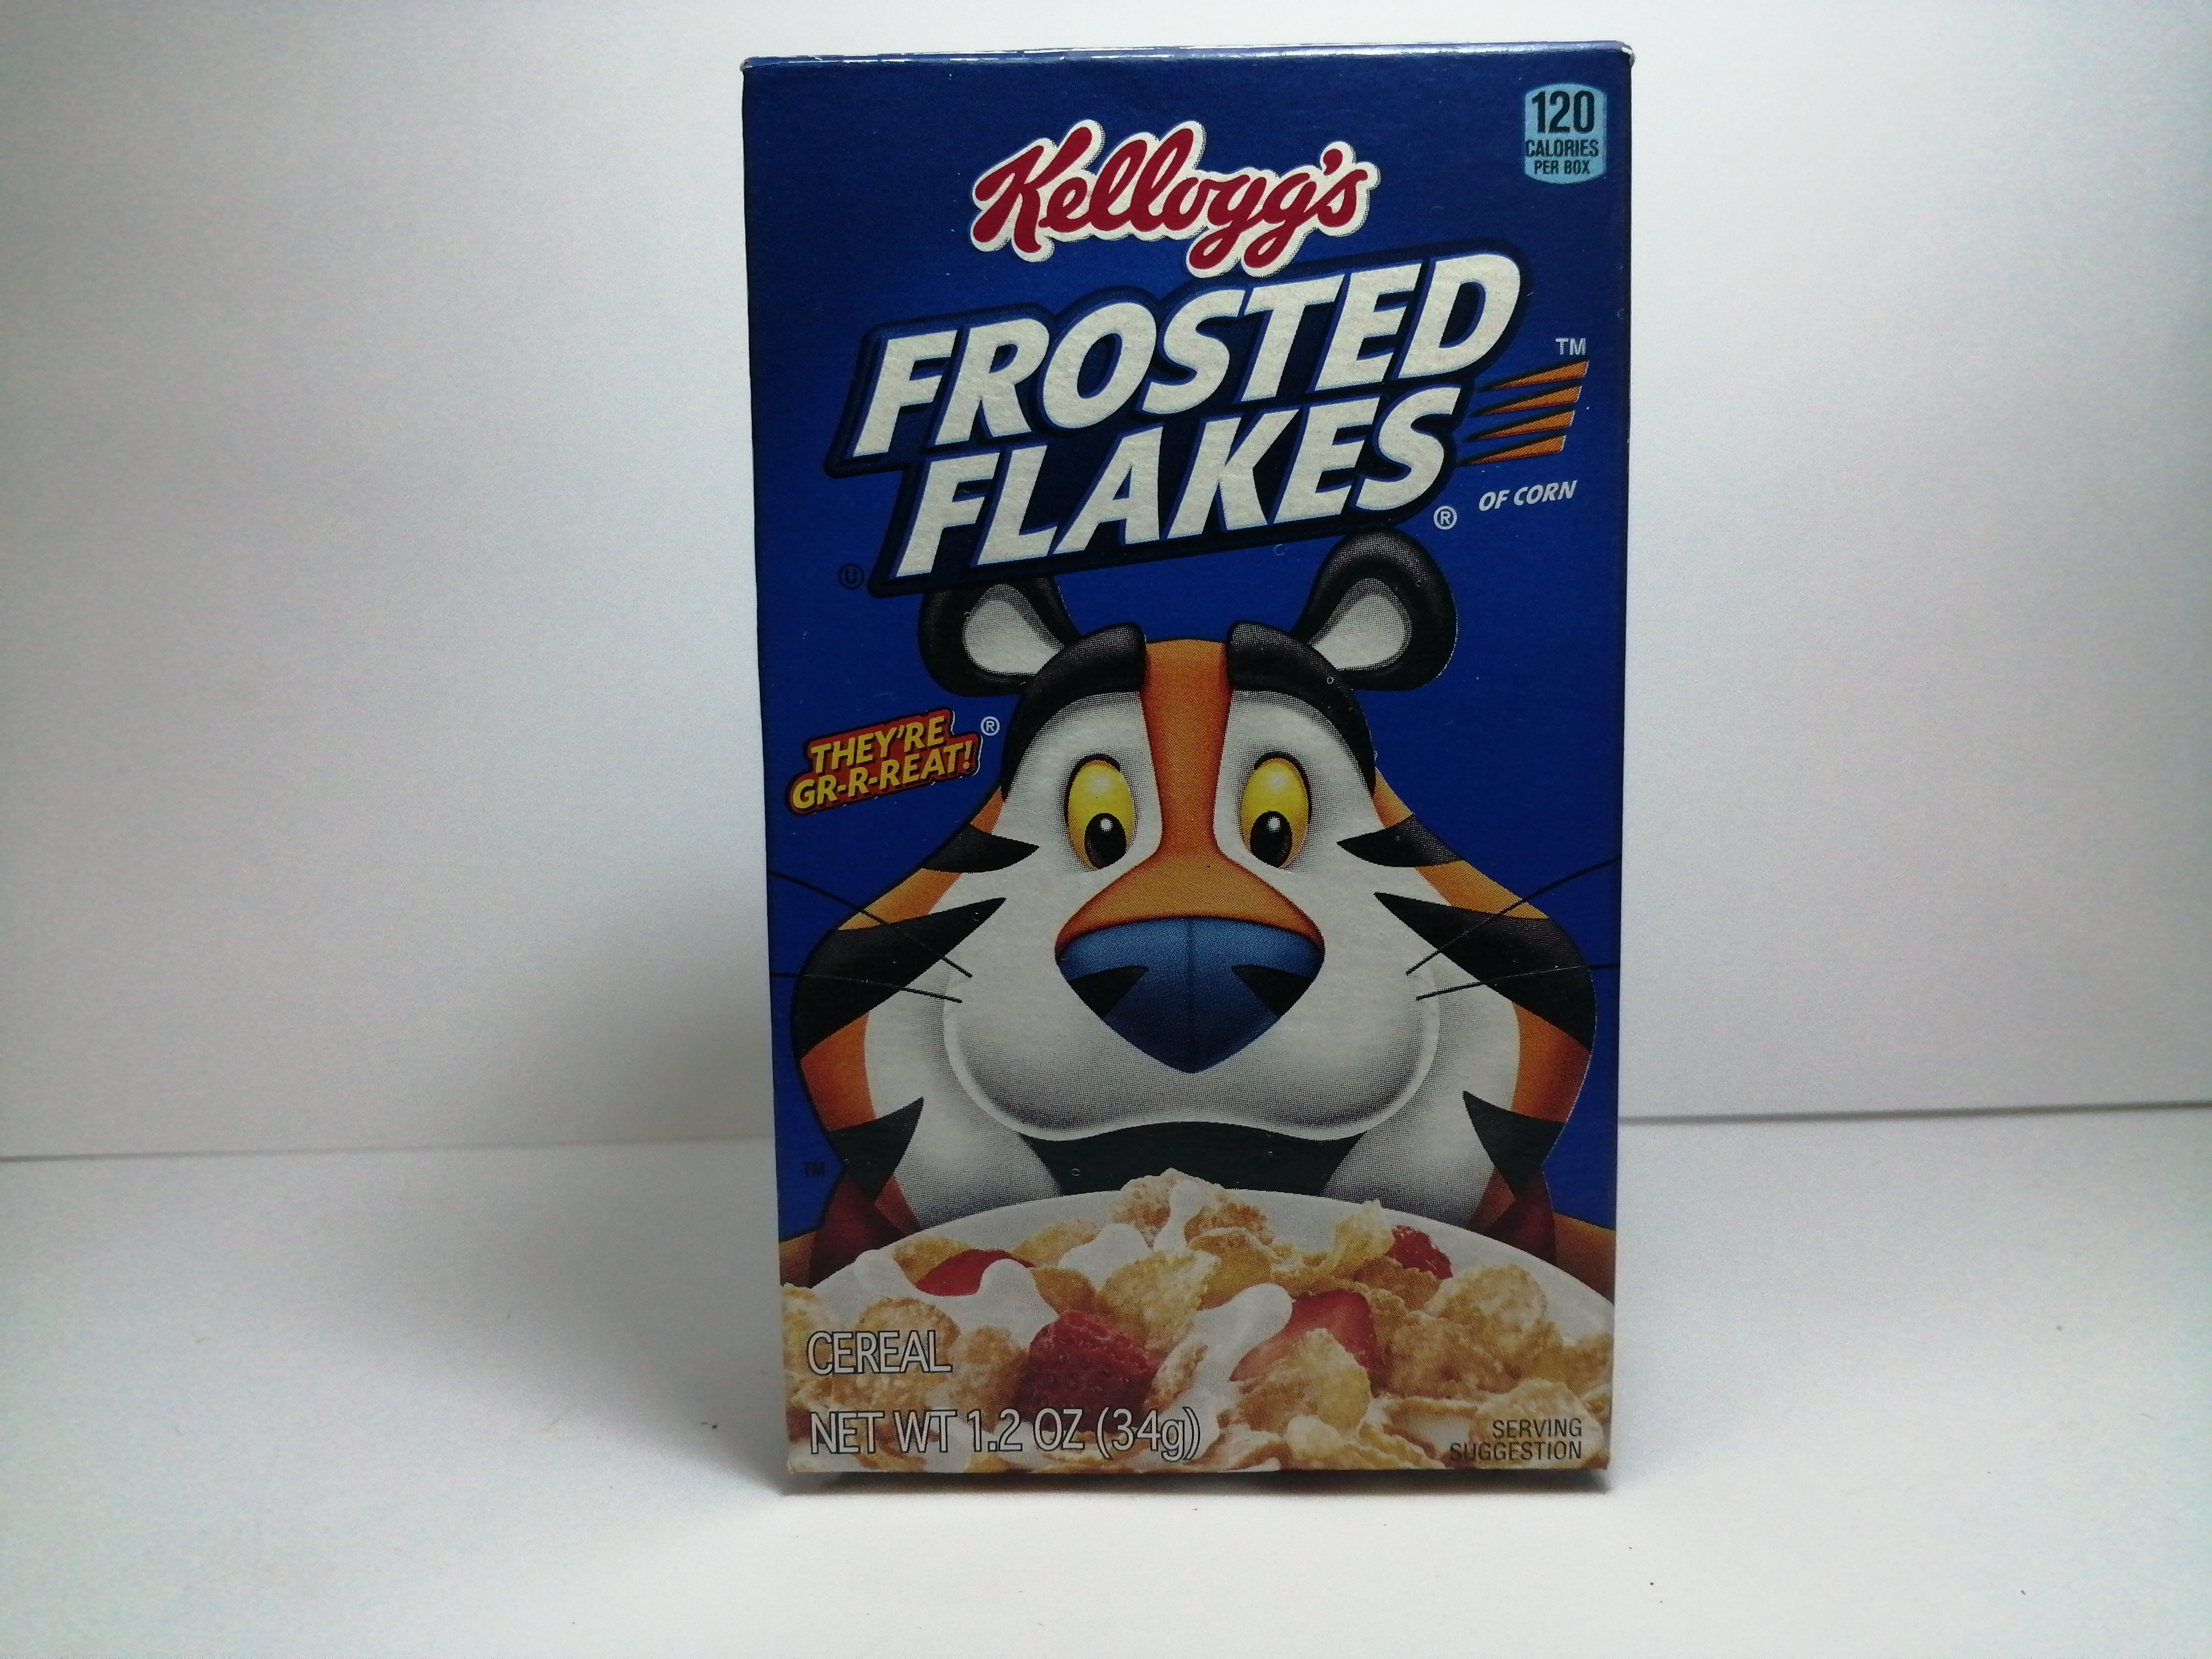cereal azucarado: (704, 26, 1663, 1513)
